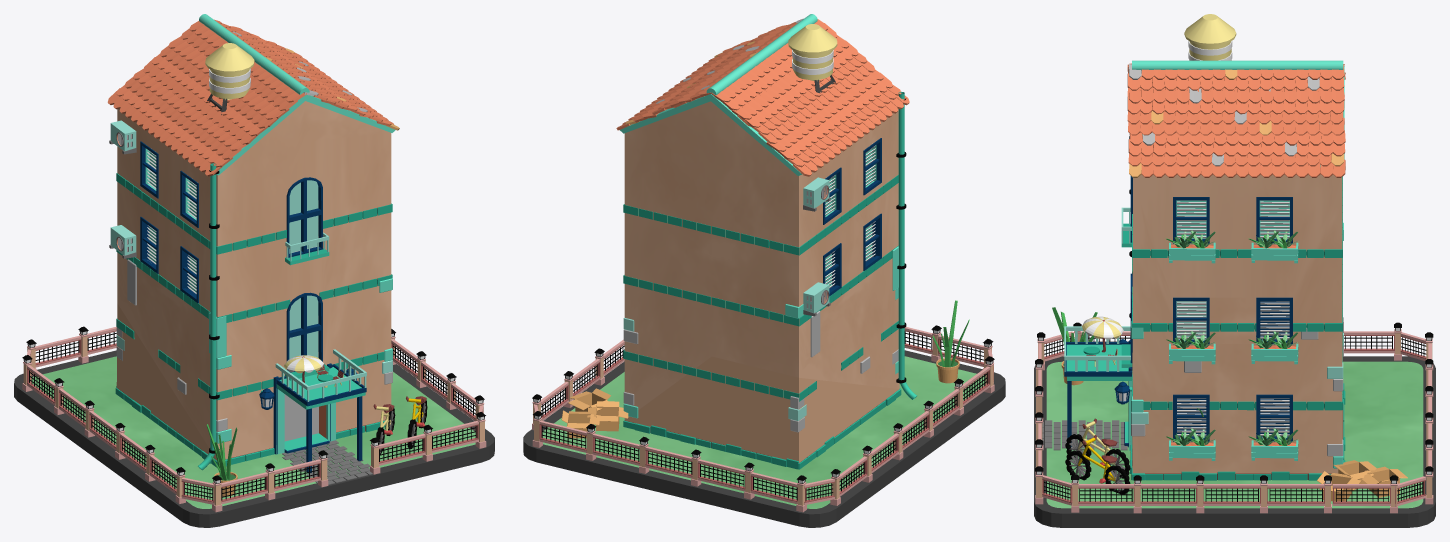
Rendered from lv3house_1.fbx.
3 views of the same model, side by side, from view 1: azimuth 30°, elevation 25°; view 2: azimuth 150°, elevation 25°; view 3: azimuth 270°, elevation 25° (orthographic). The views are drawn at different scales.
Visible parts, largest first — view 1: house_lv3_1, housebase_lv3_1, housevase_lv3, housebicycle_lv3_yellow, houseumbrella_lv3, housebicycle_lv3_red; view 2: house_lv3_1, housebase_lv3_1, housevase_lv3, housecube_lv3_2, housecube_lv3_3, housecube_lv3_1; view 3: house_lv3_1, housebase_lv3_1, housebicycle_lv3_yellow, housebicycle_lv3_red, houseumbrella_lv3, housecube_lv3_3, housecube_lv3_1, housecube_lv3_2, housevase_lv3.
Boxes of the visible parts, x1,y1,x2,y2 form: house_lv3_1: [107, 14, 399, 473]; housebase_lv3_1: [14, 326, 494, 527]; housevase_lv3: [206, 424, 237, 496]; housebicycle_lv3_yellow: [406, 396, 427, 448]; houseumbrella_lv3: [284, 355, 323, 382]; housebicycle_lv3_red: [373, 404, 395, 454]; house_lv3_1: [616, 14, 916, 469]; housebase_lv3_1: [523, 325, 1005, 527]; housevase_lv3: [932, 300, 969, 383]; housecube_lv3_2: [587, 401, 628, 431]; housecube_lv3_3: [561, 410, 600, 438]; housecube_lv3_1: [568, 388, 610, 411]; house_lv3_1: [1064, 14, 1345, 480]; housebase_lv3_1: [1034, 322, 1435, 527]; housebicycle_lv3_yellow: [1065, 435, 1130, 494]; housebicycle_lv3_red: [1065, 418, 1130, 478]; houseumbrella_lv3: [1082, 316, 1123, 352]; housecube_lv3_3: [1361, 466, 1407, 497]; housecube_lv3_1: [1317, 471, 1360, 501]; housecube_lv3_2: [1333, 460, 1376, 489]; housevase_lv3: [1052, 307, 1097, 385].
Bounding box in the file's own units: 2844 × 3483 × 3068.
